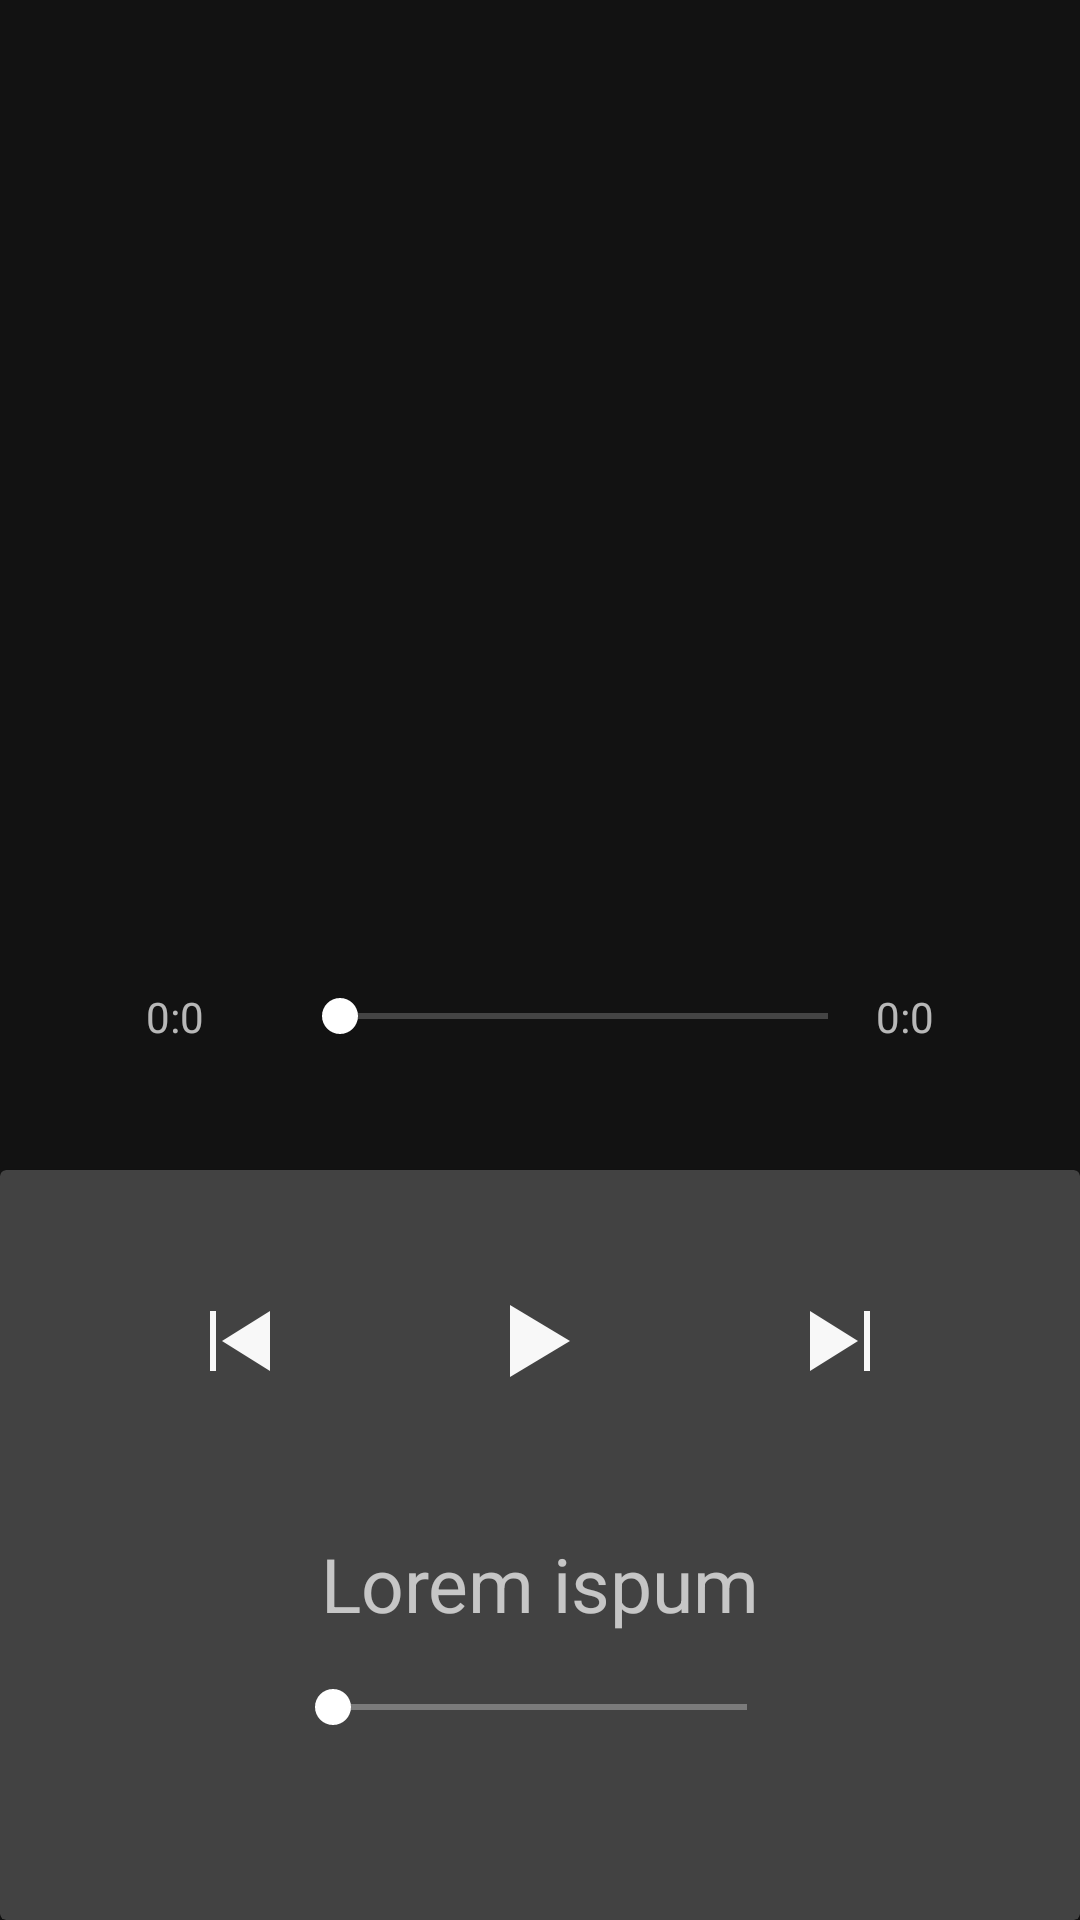

Icon click points for this 1080 x 1920 phone screenshot, format (x,y):
next: (840,1341)
play: (540,1341)
previous: (240,1341)
